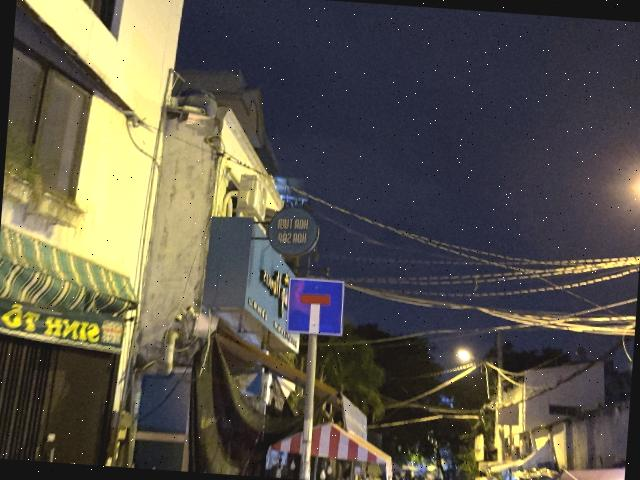duong-cut: (286, 276, 346, 337)
